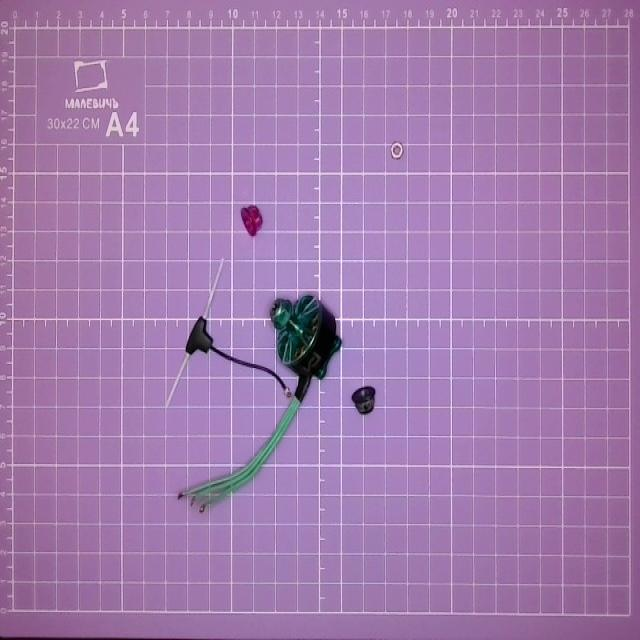antenna: (165, 255, 292, 408)
motor: (177, 293, 341, 512)
screw_M3: (388, 137, 406, 165)
screw_M5: (349, 383, 379, 419), (237, 202, 267, 236)
